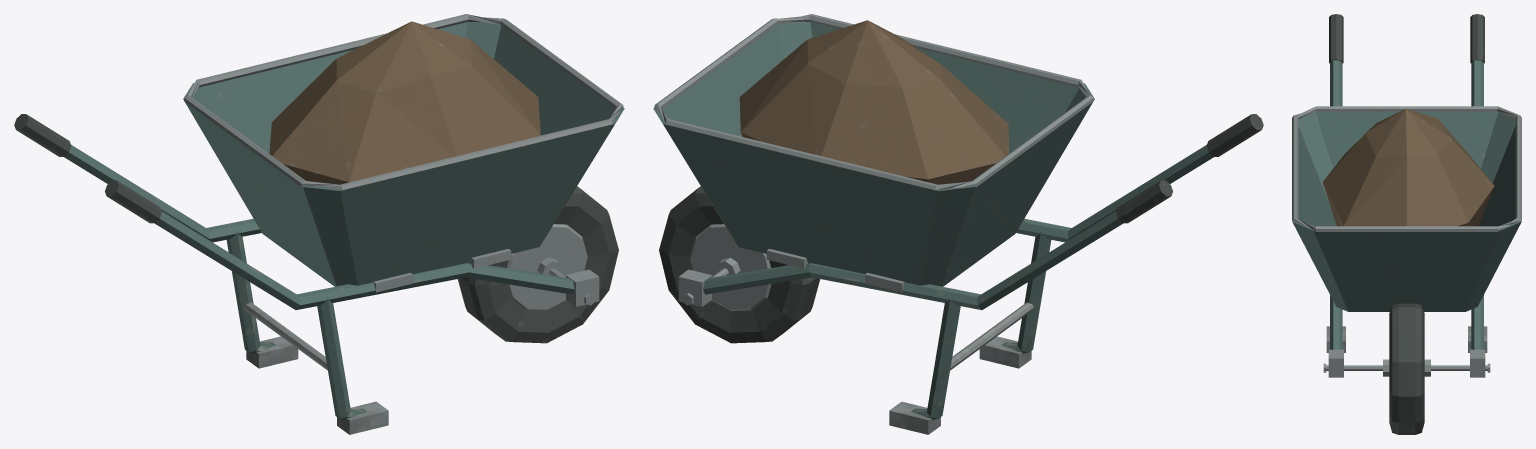
Rendered from farmland_wheelbarrow_loaded.glb.
The picture shows the model from 3 angles, left to right: view 1: azimuth 30°, elevation 25°; view 2: azimuth 150°, elevation 25°; view 3: azimuth 270°, elevation 25°; orthographic projection. The views are drawn at different scales.
Visible parts, largest first — view 1: WheelbarrowLoaded; view 2: WheelbarrowLoaded; view 3: WheelbarrowLoaded.
Boxes of the visible parts, x1=… form: WheelbarrowLoaded: x1=14, y1=14, x2=624, y2=434; WheelbarrowLoaded: x1=653, y1=14, x2=1263, y2=434; WheelbarrowLoaded: x1=1292, y1=14, x2=1521, y2=434.
Size of what is drawn, in the model's own units: 1.4 by 0.85 by 0.6509.
Materials: 1 (1 with a texture image).
